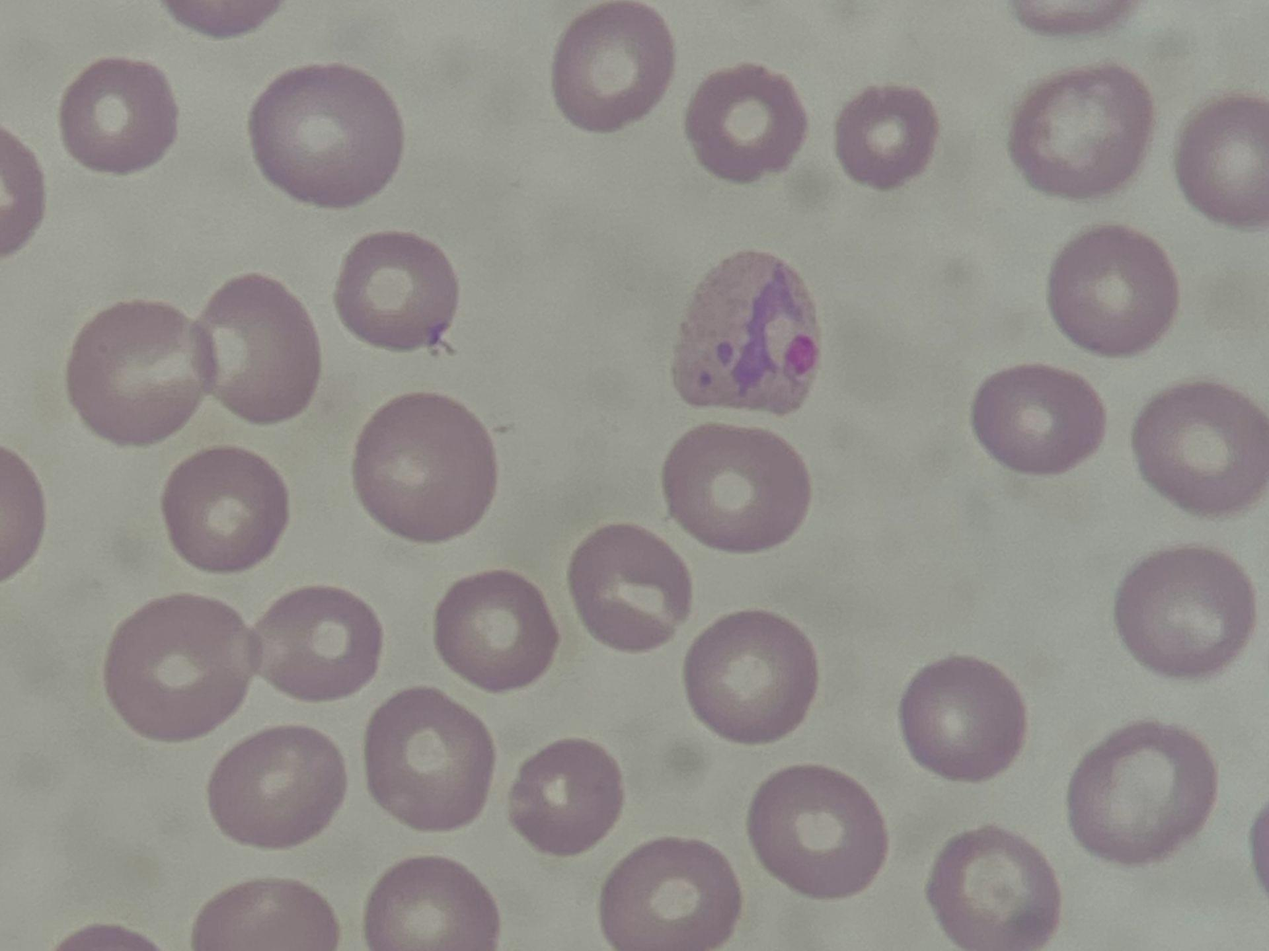Infected: (673, 249, 818, 415)
Uninfected: (100, 595, 255, 741), (248, 63, 399, 206), (353, 393, 498, 541), (67, 300, 210, 445), (1067, 722, 1213, 862), (663, 422, 810, 552), (747, 764, 889, 898), (363, 688, 496, 831), (196, 274, 322, 424), (1009, 63, 1151, 196), (683, 609, 818, 743), (1131, 381, 1268, 512), (1114, 548, 1251, 677), (206, 724, 346, 849), (158, 446, 289, 575), (898, 656, 1028, 782), (1046, 226, 1173, 353), (568, 523, 695, 648), (551, 1, 674, 128), (334, 229, 459, 352), (927, 830, 1058, 946), (599, 840, 736, 948), (434, 573, 558, 692), (684, 64, 808, 183), (976, 364, 1107, 473), (256, 586, 381, 699), (59, 56, 178, 173), (508, 738, 623, 855), (365, 856, 498, 949), (1175, 91, 1269, 219), (833, 85, 938, 188), (194, 880, 336, 950)
